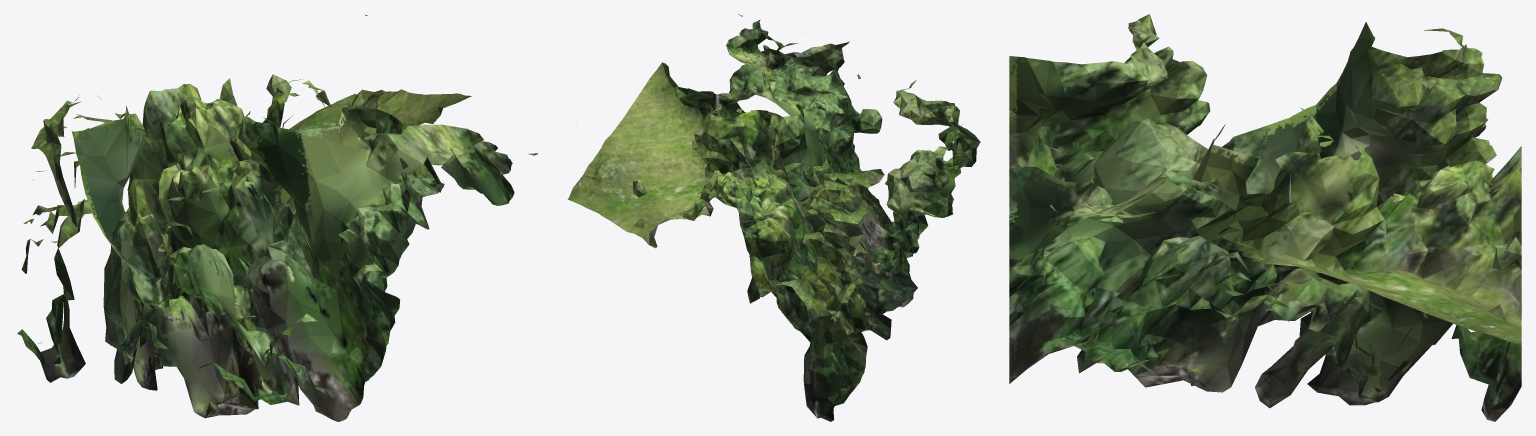
3 renders of one model, left to right at view 1: azimuth 30°, elevation 25°; view 2: azimuth 150°, elevation 25°; view 3: azimuth 270°, elevation 25°, orthographic. The views are drawn at different scales.
Size of the model in its own units: 52.22 by 42.8 by 52.22.
Materials: 6 (6 with a texture image).
